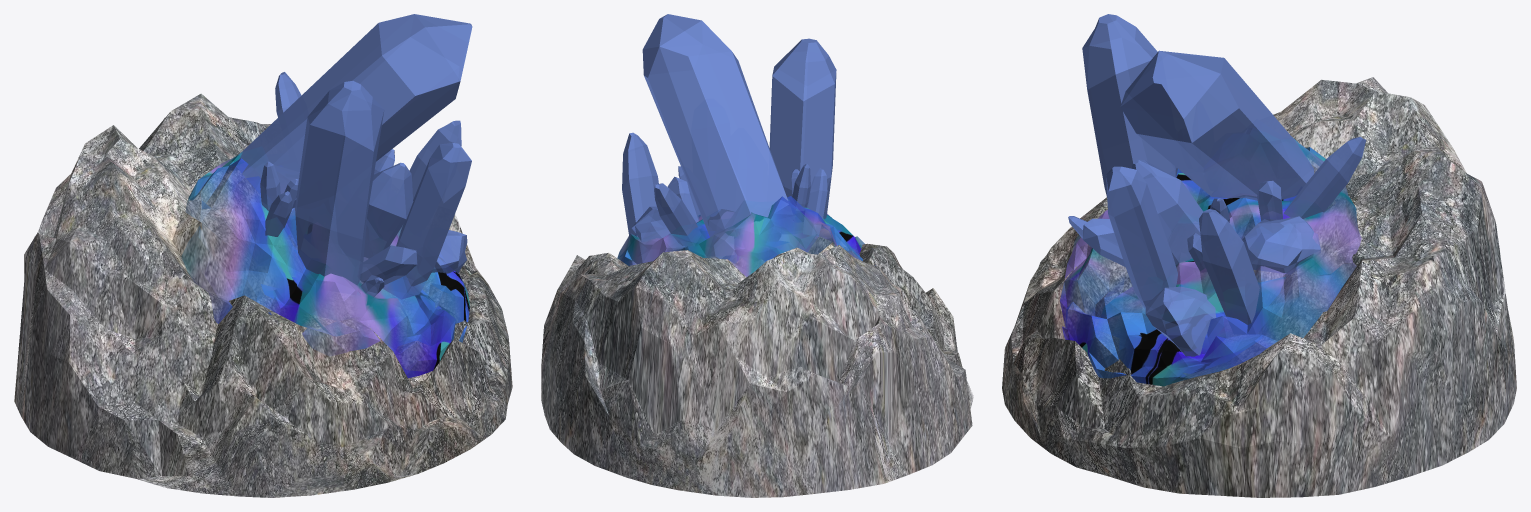
File: PRP_GemRock.glb
3 renders of one model, left to right at view 1: azimuth 30°, elevation 25°; view 2: azimuth 150°, elevation 25°; view 3: azimuth 270°, elevation 25°, orthographic. The views are drawn at different scales.
Visible parts, largest first — view 1: Icosphere.002_0, Icosphere.001_0, Cylinder.015_0, Cylinder.011_0, Cylinder.014_0, Cylinder.012_0; view 2: Icosphere.002_0, Cylinder.015_0, Cylinder.011_0, Icosphere.001_0, Cylinder.012_0; view 3: Icosphere.002_0, Cylinder.015_0, Icosphere.001_0, Cylinder.011_0, Cylinder.014_0, Cylinder.012_0.
Part boxes in pixels (left/top/right/bottom): Icosphere.002_0: left=14, top=93, right=512, bottom=497; Icosphere.001_0: left=181, top=152, right=469, bottom=378; Cylinder.015_0: left=236, top=14, right=472, bottom=299; Cylinder.011_0: left=275, top=72, right=461, bottom=294; Cylinder.014_0: left=284, top=162, right=467, bottom=297; Cylinder.012_0: left=260, top=161, right=417, bottom=287; Icosphere.002_0: left=541, top=236, right=973, bottom=497; Cylinder.015_0: left=632, top=14, right=827, bottom=256; Cylinder.011_0: left=622, top=38, right=836, bottom=263; Icosphere.001_0: left=617, top=196, right=875, bottom=276; Cylinder.012_0: left=667, top=164, right=810, bottom=241; Icosphere.002_0: left=1002, top=77, right=1516, bottom=497; Cylinder.015_0: left=1106, top=50, right=1320, bottom=309; Icosphere.001_0: left=1060, top=137, right=1361, bottom=386; Cylinder.011_0: left=1082, top=14, right=1365, bottom=334; Cylinder.014_0: left=1068, top=159, right=1223, bottom=356; Cylinder.012_0: left=1082, top=180, right=1282, bottom=266.
Size of what is drawn, in the model's own units: 0.0484 by 0.0402 by 0.0474.
6 materials, 6 textured.
